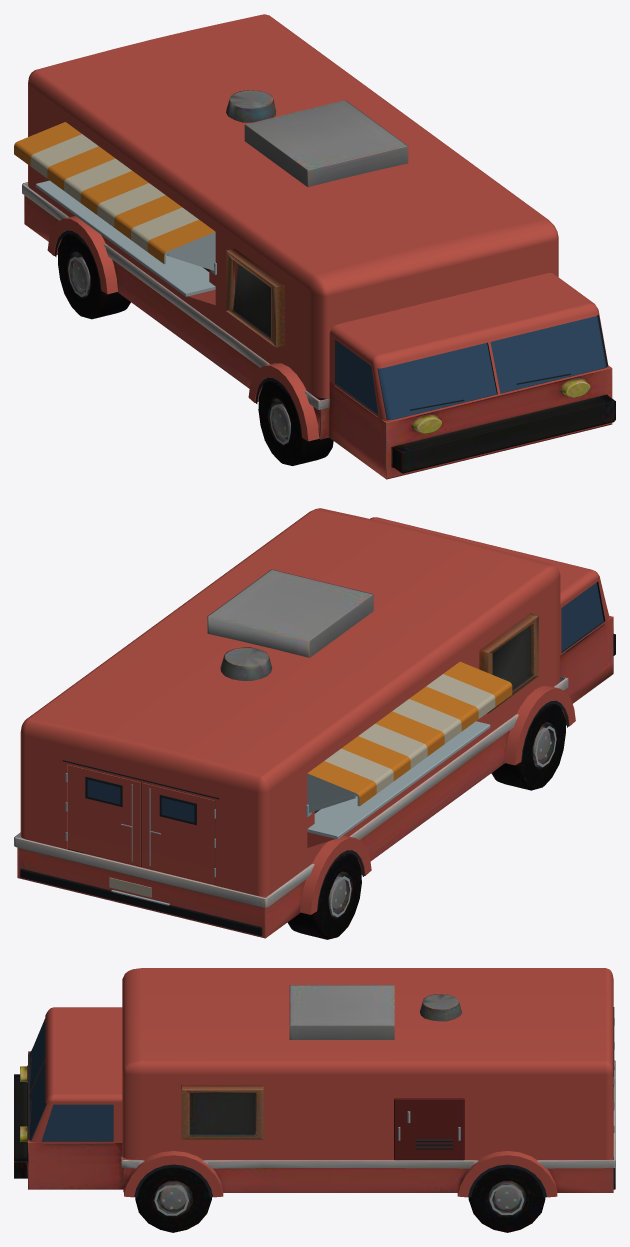
Rendered from food-truck.glb.
The picture shows the model from 3 angles, top to bottom: view 1: azimuth 30°, elevation 25°; view 2: azimuth 150°, elevation 25°; view 3: azimuth 270°, elevation 25°; orthographic projection. The views are drawn at different scales.
Visible parts, largest first — view 1: Food-truckBody; view 2: Food-truckBody; view 3: Food-truckBody.
Boxes of the visible parts, bbox=[...] form: Food-truckBody: bbox=[14, 14, 615, 479]; Food-truckBody: bbox=[14, 508, 615, 939]; Food-truckBody: bbox=[14, 968, 615, 1232].
Bounding box in the file's own units: 3.9 × 2.65 × 7.97.
Materials: 1 (1 with a texture image).
